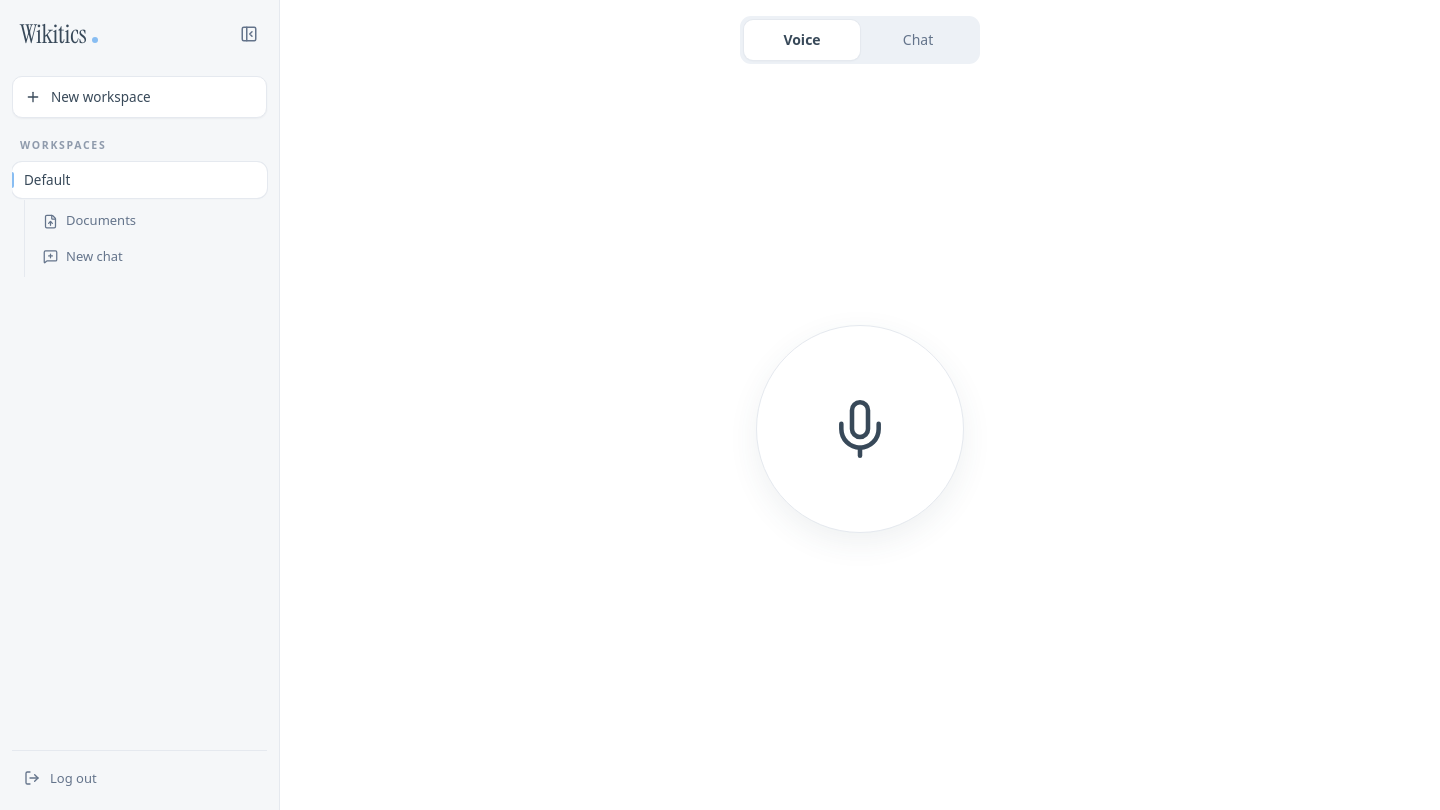
it: App › shows a failed answer inline with a retry instead of an alert
Click the button "Chat".
click(918, 40)  # box [860,20,976,60]
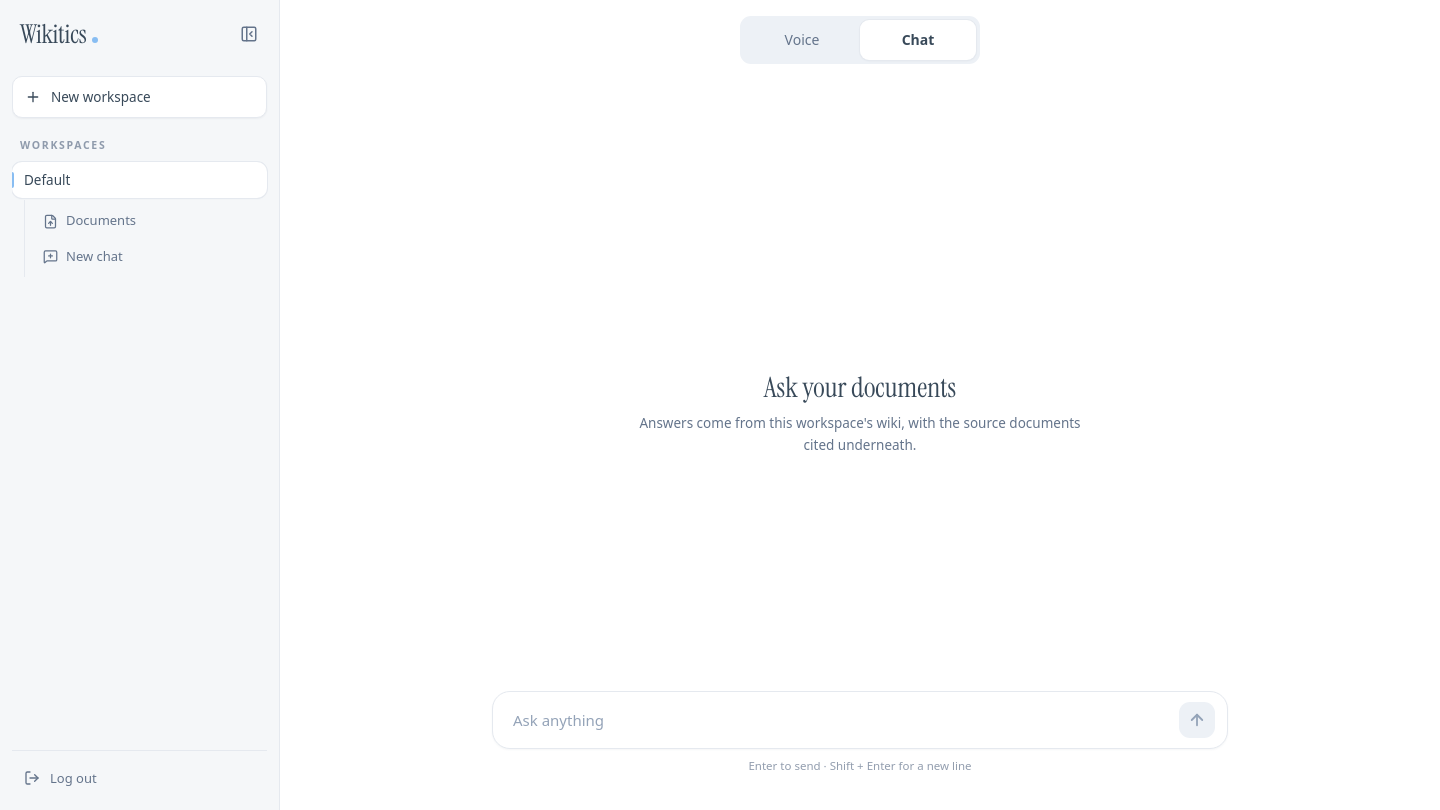
Type "Penalty?" into the text box labelled "Ask".
click(838, 720); type("Penalty?")  # box [505,702,1171,738]
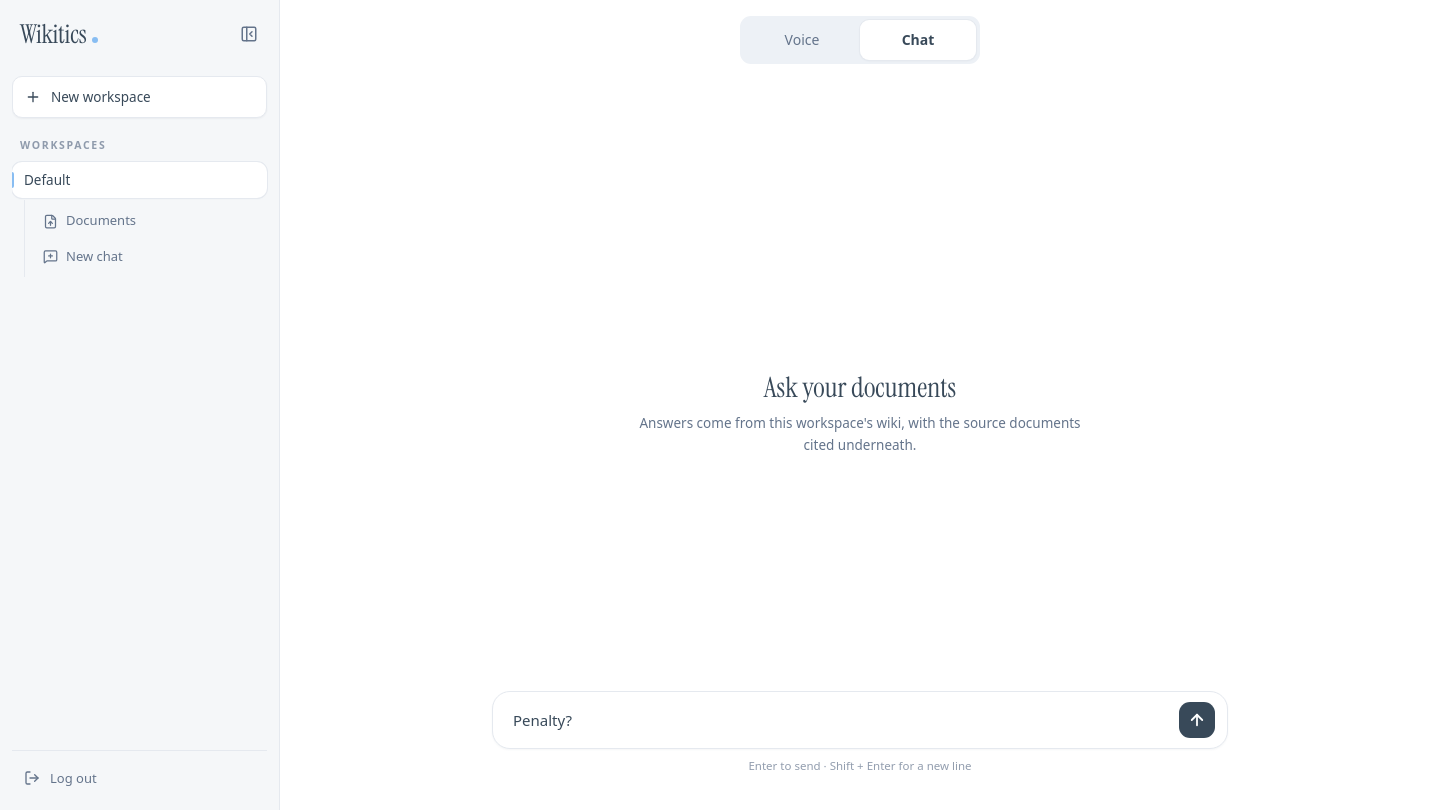
Click the button titled "Send".
click(1197, 720)  # box [1179,702,1215,738]
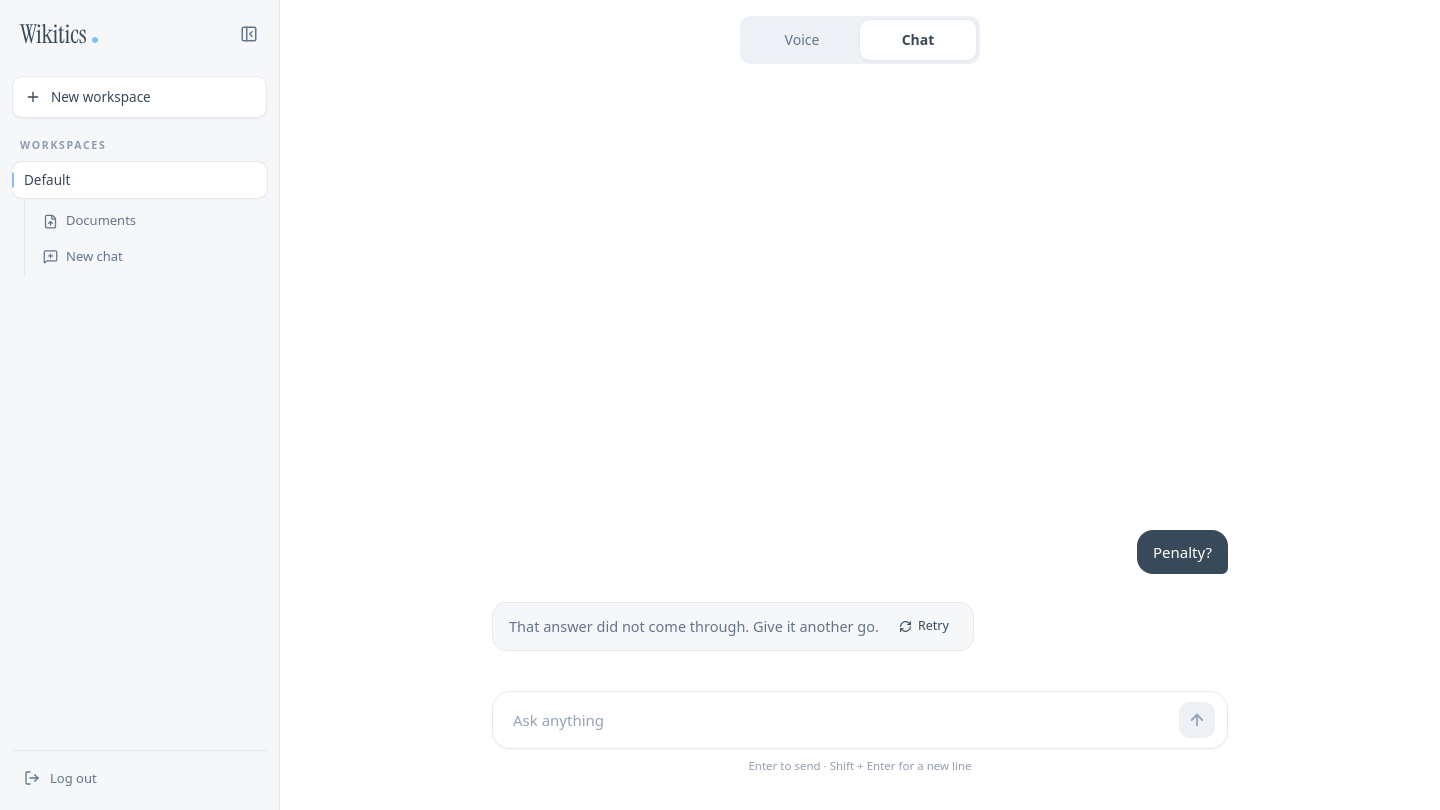
Check: the text "That answer did not come through. Give it another go." is shown, box [509,616,879,637]
Click the button "Retry".
click(924, 626)  # box [891,613,957,640]
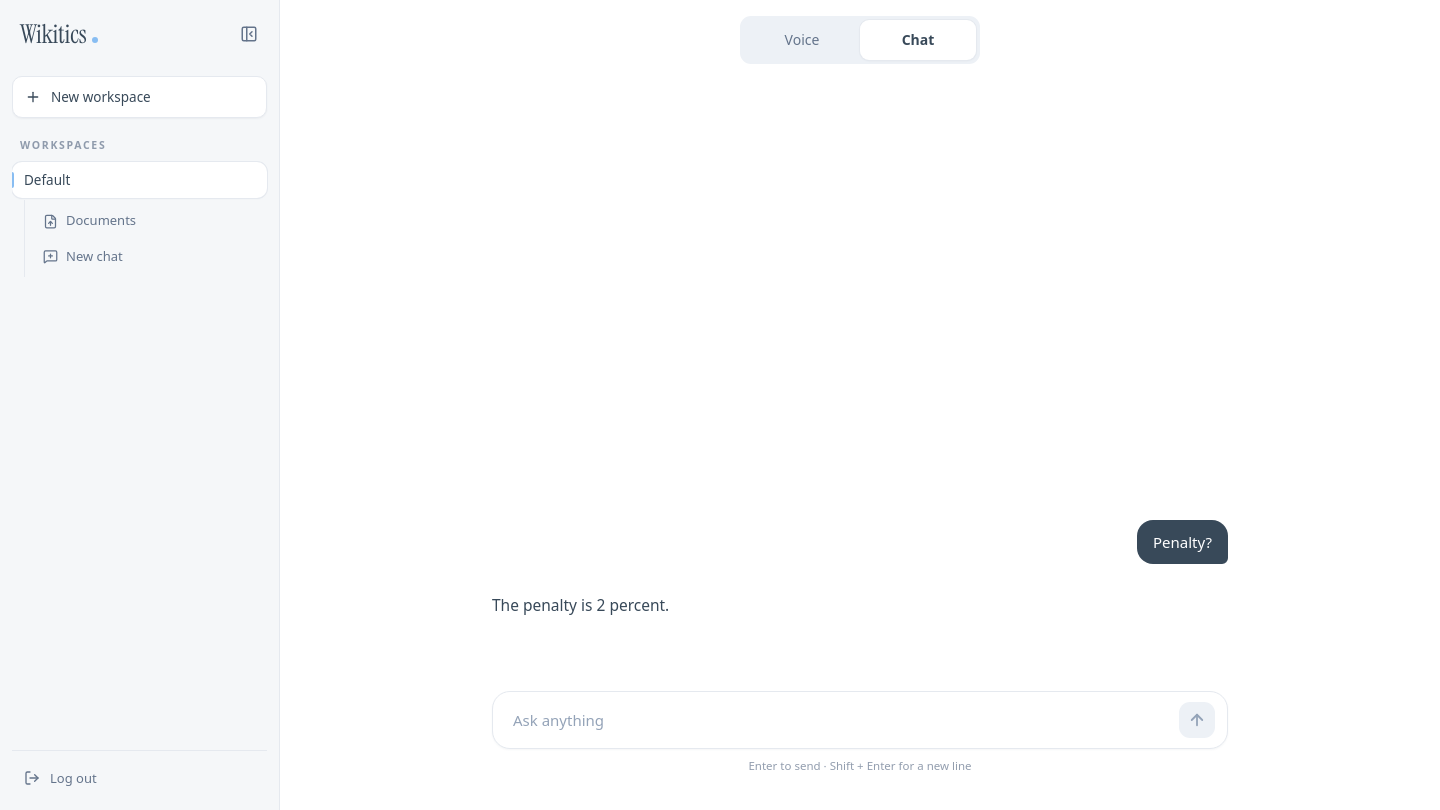
Check: the text "The penalty is 2 percent." is shown, box [492,594,669,616]
Check: the text "That answer did not come through. Give it another go." is gone
